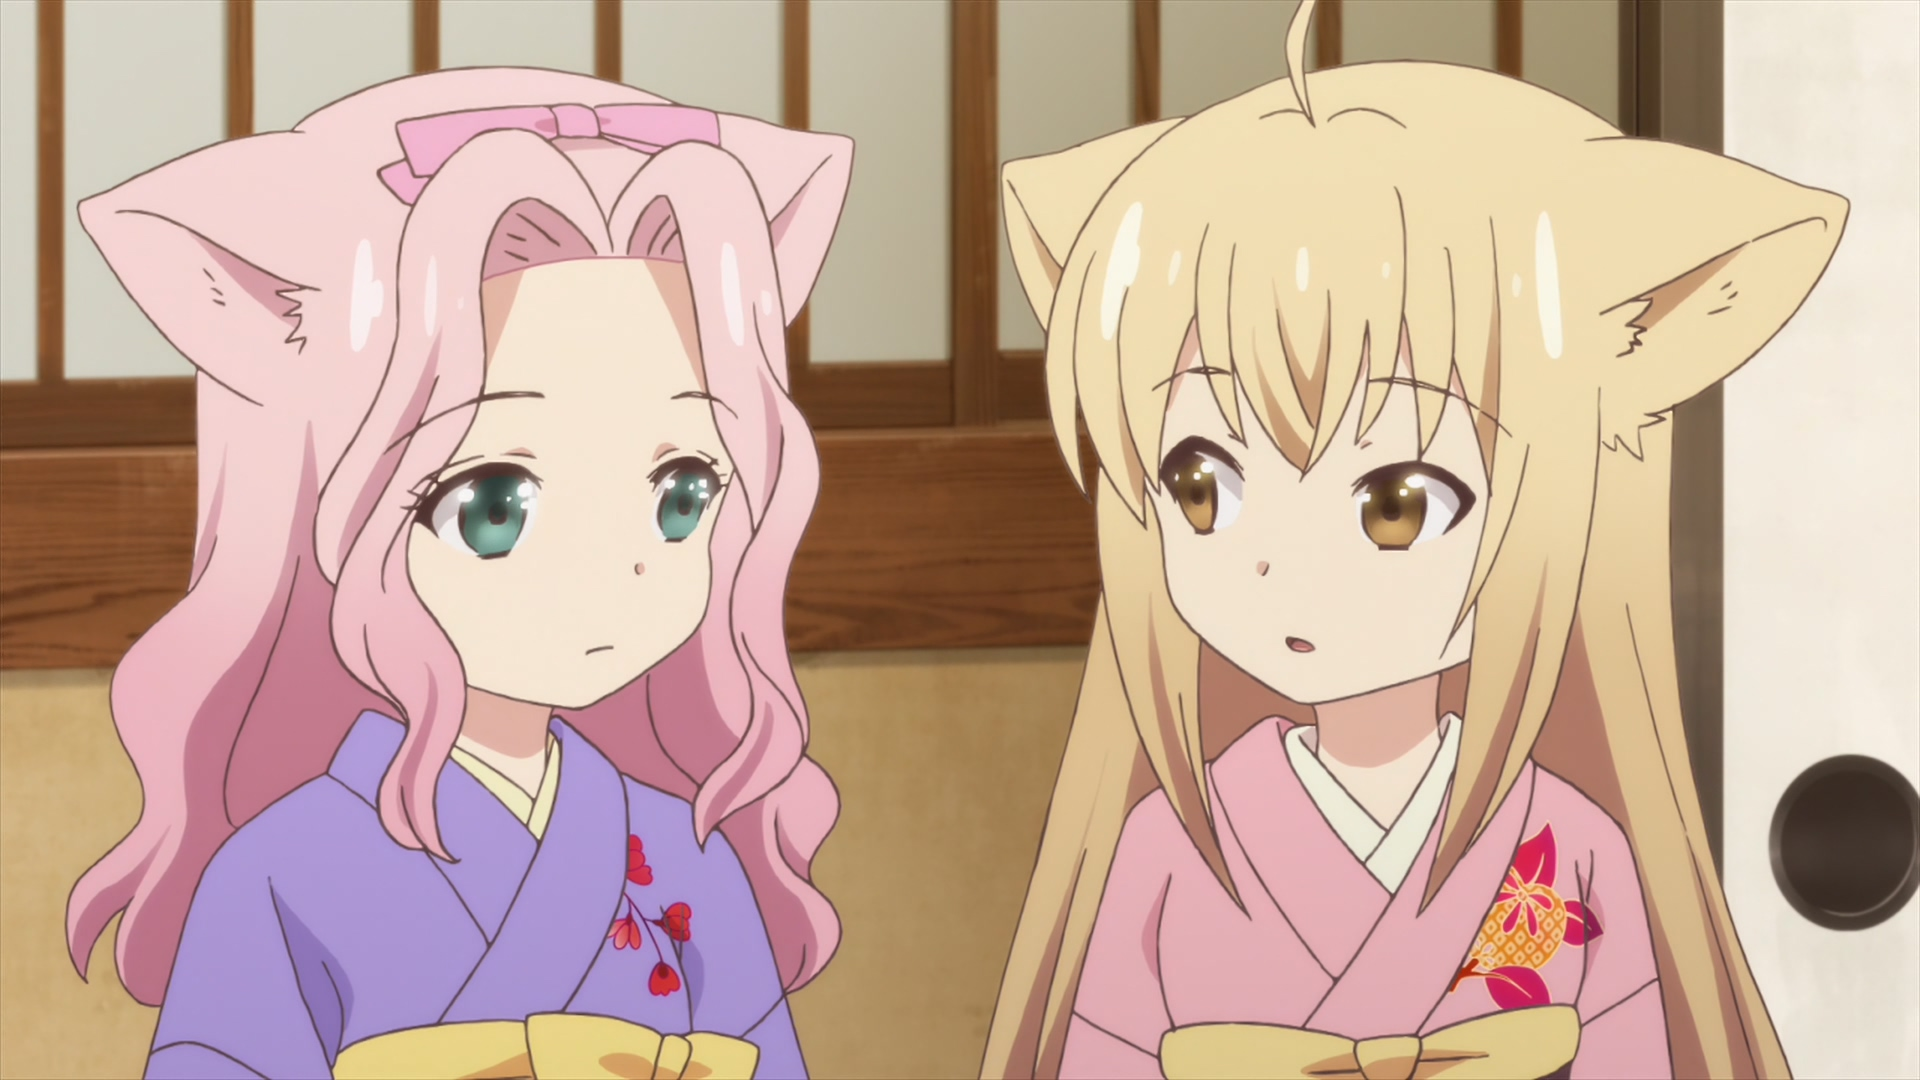柚: (978, 1, 1849, 1080)
莲: (65, 69, 856, 1080)
